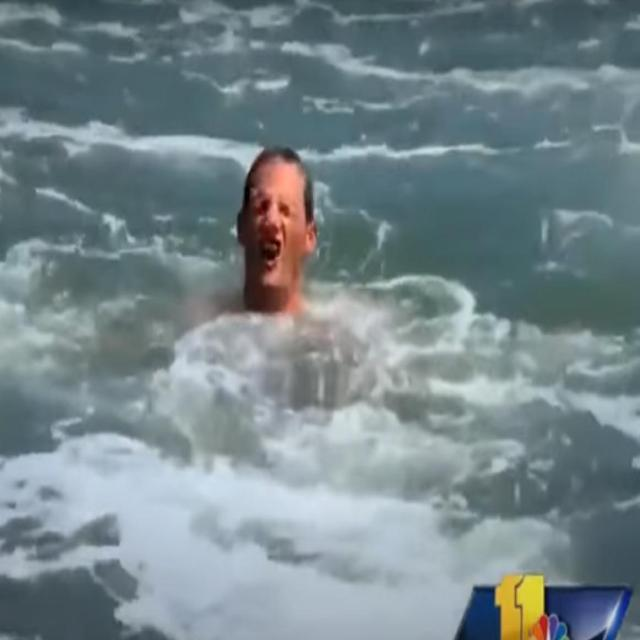Out of Water: (223, 136, 328, 326)
